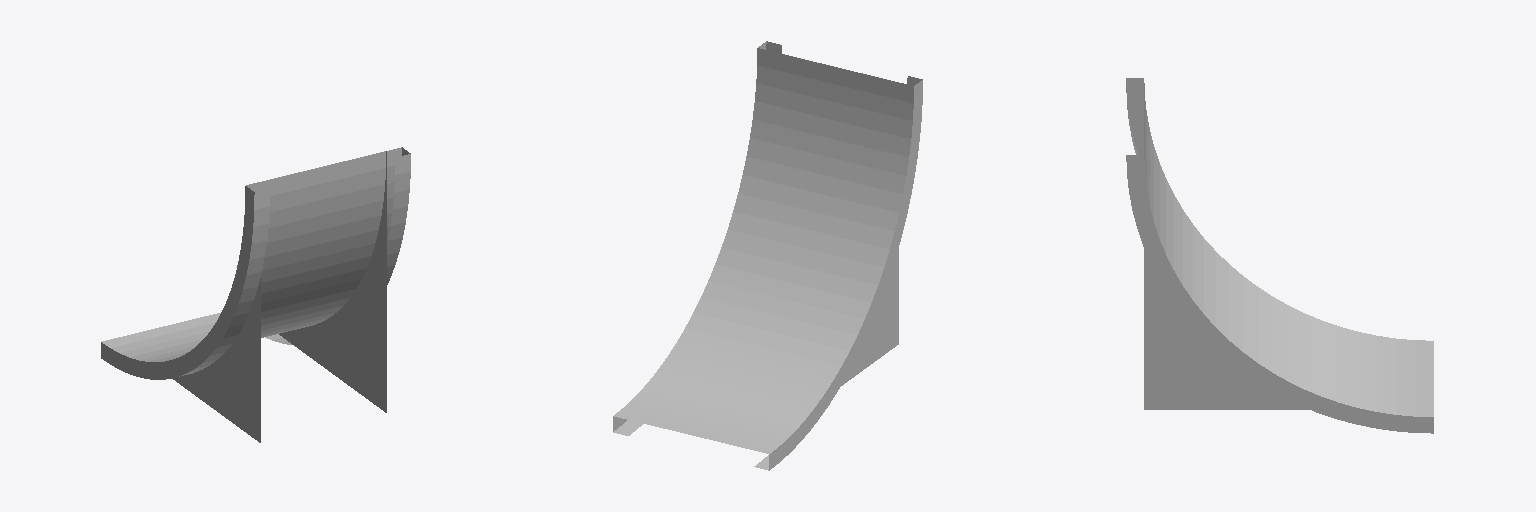
Rendered from ParadiseStormQuarterPipe.obj.
3 renders of one model, left to right at view 1: azimuth 30°, elevation 25°; view 2: azimuth 150°, elevation 25°; view 3: azimuth 270°, elevation 25°, orthographic.
Visible parts, largest first — view 1: ParadiseStormQuarterPipe; view 2: ParadiseStormQuarterPipe; view 3: ParadiseStormQuarterPipe.
Part boxes in pixels (x1,y1,x2,y2): ParadiseStormQuarterPipe: (101,147,410,442); ParadiseStormQuarterPipe: (613,41,922,470); ParadiseStormQuarterPipe: (1126,78,1433,433).
Size of the model in its own units: 5 by 8.5 by 8.5.